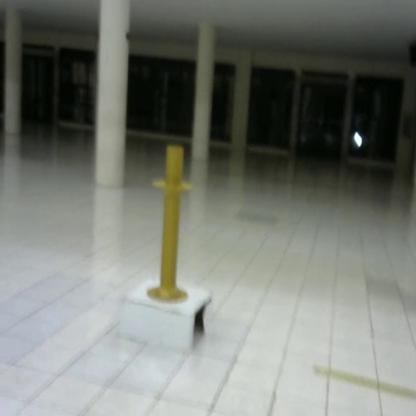pole: (143, 138, 196, 307)
